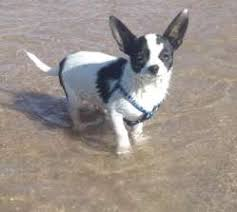chihuahua: (16, 6, 203, 162)
